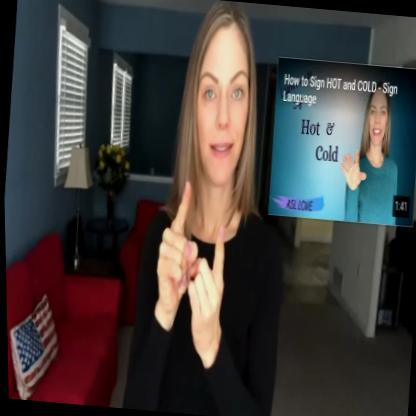NiceToMeetYou: (111, 0, 308, 416)
